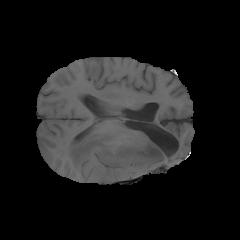glioma: (68, 121, 187, 174)
